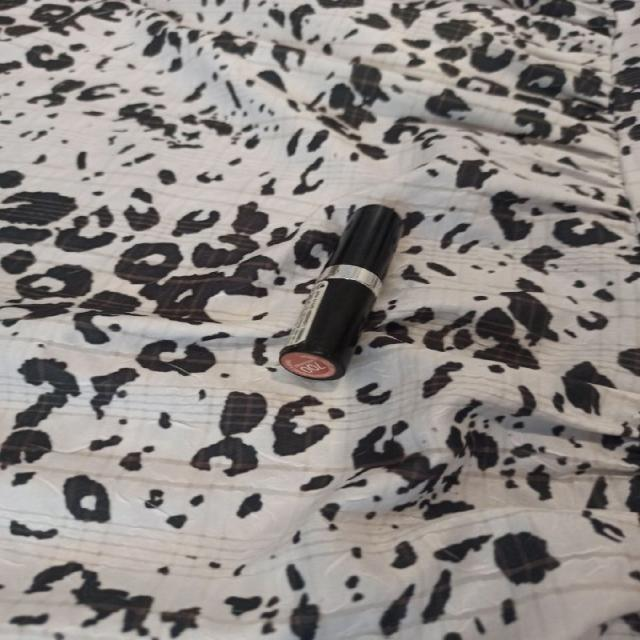lipstick: (277, 202, 403, 381)
